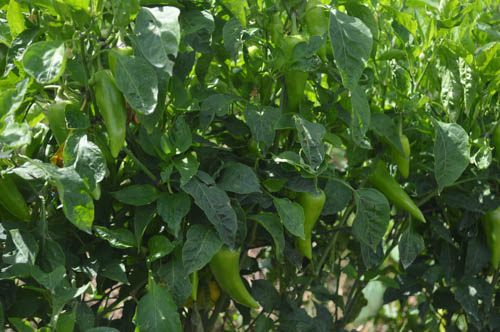ChiliPepper: (375, 169, 428, 225), (96, 72, 125, 156), (294, 191, 323, 268), (219, 251, 257, 308), (3, 178, 28, 221), (46, 104, 72, 136), (396, 139, 412, 173)
